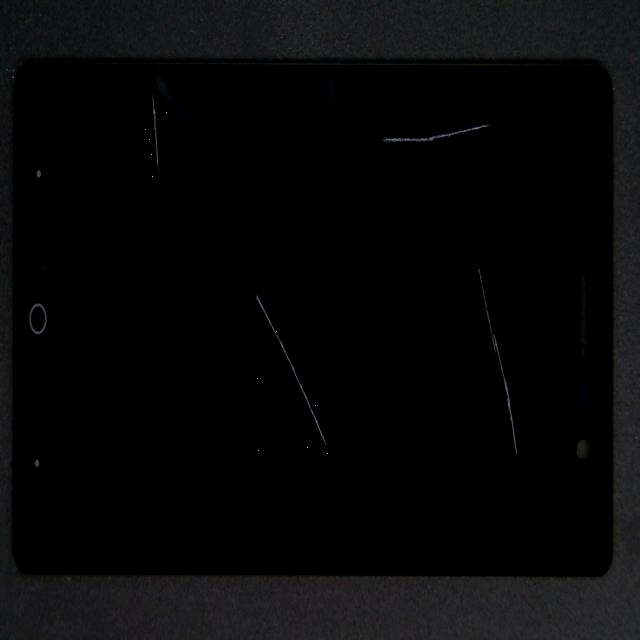scratch: (145, 124, 375, 409), (72, 0, 215, 174)
